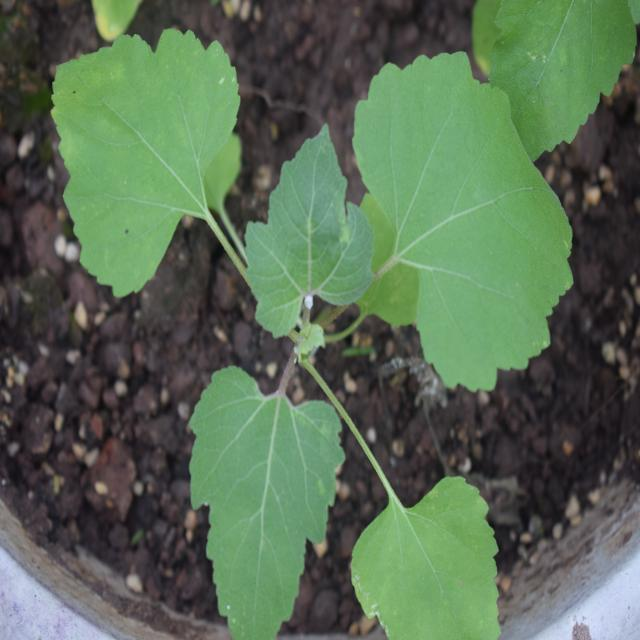cocklebur: (59, 34, 548, 628)
